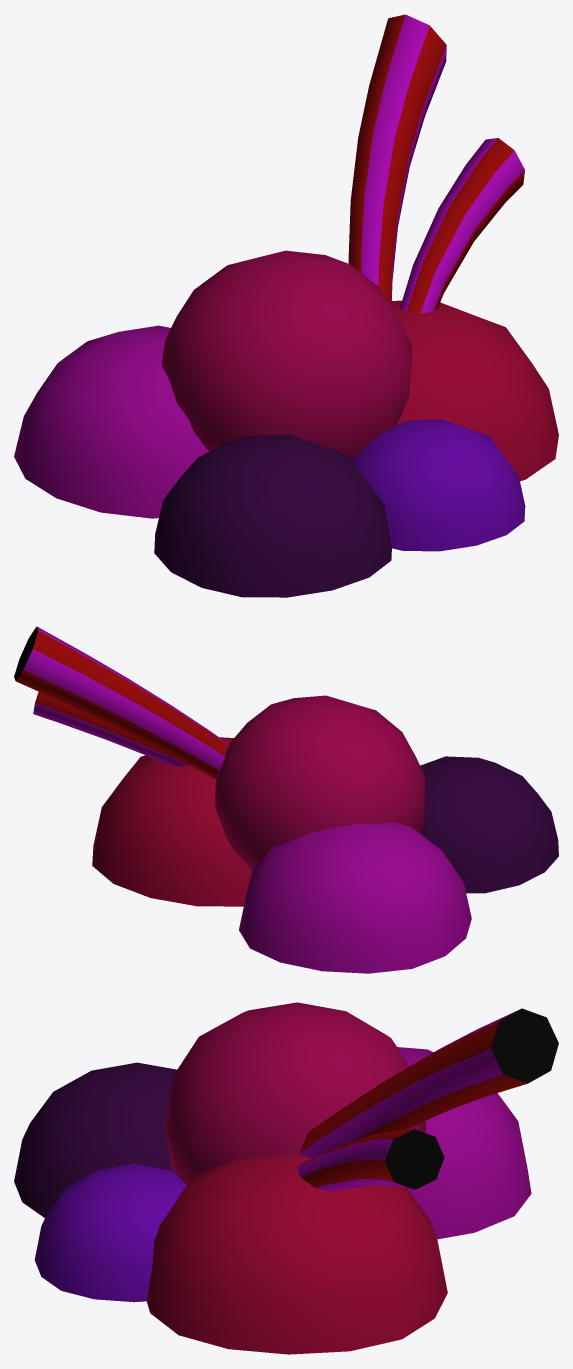
Rendered from Topping02.fbx.
3 views of the same model, one above another, from view 1: azimuth 30°, elevation 25°; view 2: azimuth 150°, elevation 25°; view 3: azimuth 270°, elevation 25° (orthographic). The views are drawn at different scales.
Parts seen in each view (by area): view 1: Topping02; view 2: Topping02; view 3: Topping02.
Part boxes in pixels (x1,y1,x2,y2): Topping02: [14, 14, 558, 597]; Topping02: [14, 626, 558, 973]; Topping02: [14, 1002, 558, 1354].
Bounding box in the file's own units: 2.43 × 1.58 × 2.25.
